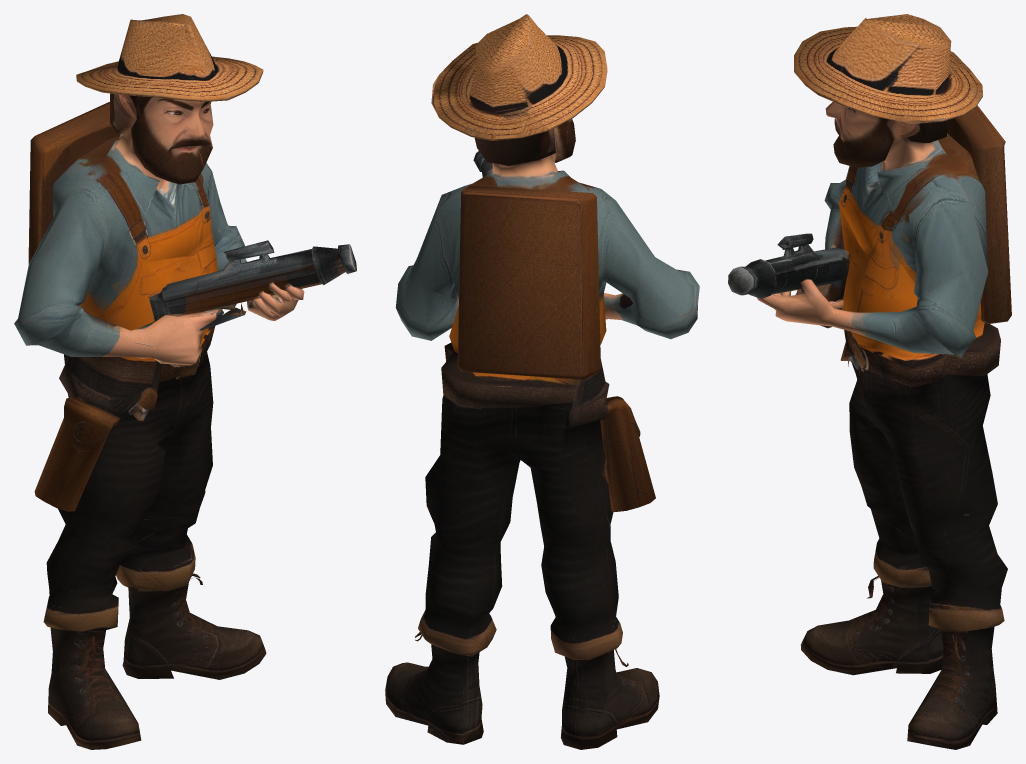
The model's file is rival-fields.glb.
The picture shows the model from 3 angles, left to right: view 1: azimuth 30°, elevation 25°; view 2: azimuth 150°, elevation 25°; view 3: azimuth 270°, elevation 25°; orthographic projection.
Bounding box in the file's own units: 0.4038 × 0.9531 × 0.3564.
Materials: 1 (1 with a texture image).
